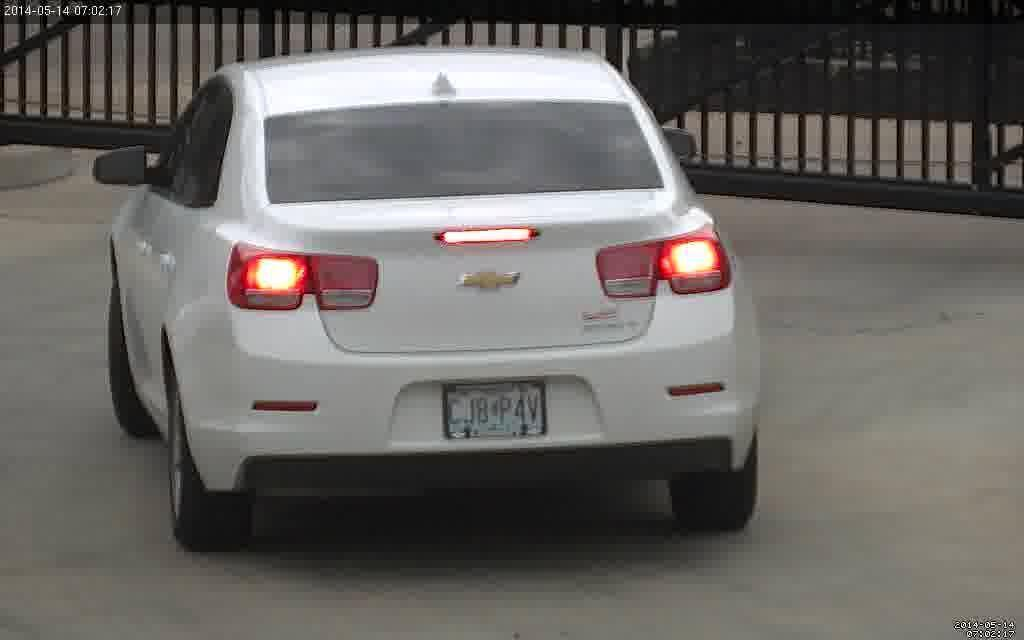placa de veiculo: (429, 362, 574, 465)
